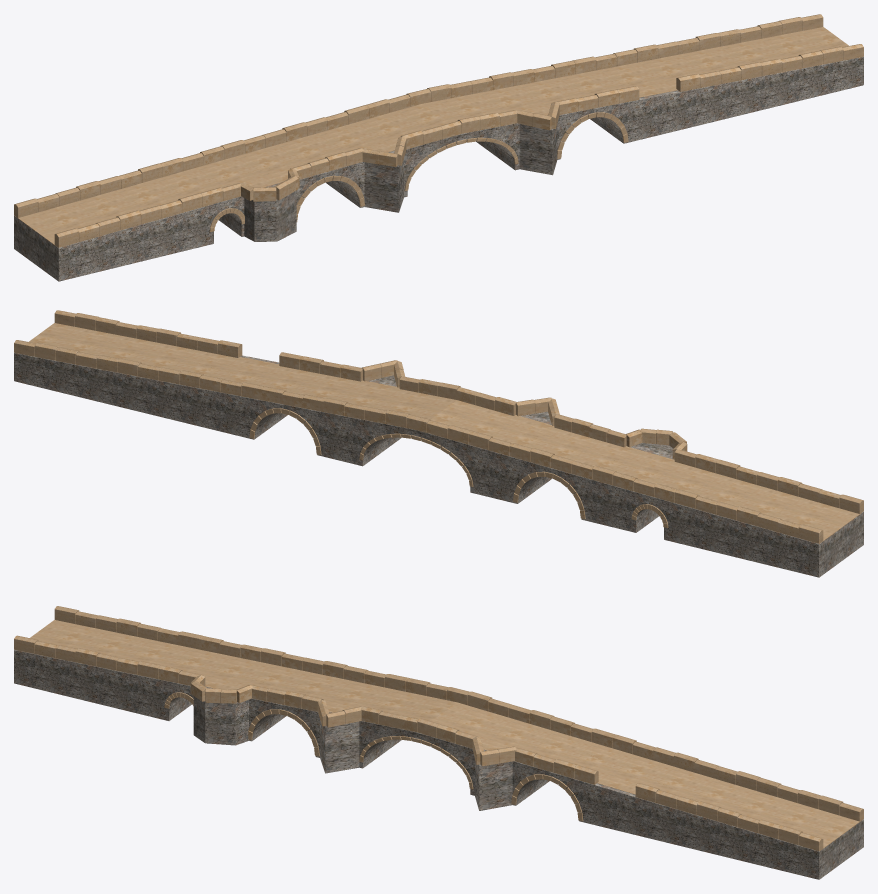
The model's file is duero69_puenteviejo512.glb.
3 renders of one model, top to bottom at view 1: azimuth 30°, elevation 25°; view 2: azimuth 150°, elevation 25°; view 3: azimuth 330°, elevation 25°, orthographic.
Parts seen in each view (by area): view 1: puente_viejo68_OldBridge68_warm_ashlar_voussoirs, puente_viejo68_OldBridge68_rebuilt_rubble; view 2: puente_viejo68_OldBridge68_warm_ashlar_voussoirs, puente_viejo68_OldBridge68_rebuilt_rubble; view 3: puente_viejo68_OldBridge68_warm_ashlar_voussoirs, puente_viejo68_OldBridge68_rebuilt_rubble.
Part boxes in pixels (x1,y1,x2,y2): puente_viejo68_OldBridge68_warm_ashlar_voussoirs: (14, 14, 863, 247); puente_viejo68_OldBridge68_rebuilt_rubble: (14, 57, 863, 281); puente_viejo68_OldBridge68_warm_ashlar_voussoirs: (14, 310, 863, 543); puente_viejo68_OldBridge68_rebuilt_rubble: (14, 353, 863, 577); puente_viejo68_OldBridge68_warm_ashlar_voussoirs: (14, 606, 863, 851); puente_viejo68_OldBridge68_rebuilt_rubble: (14, 650, 863, 879).
Size of the model in its own units: 40 by 2.94 by 5.16.
Materials: 2 (2 with a texture image).
